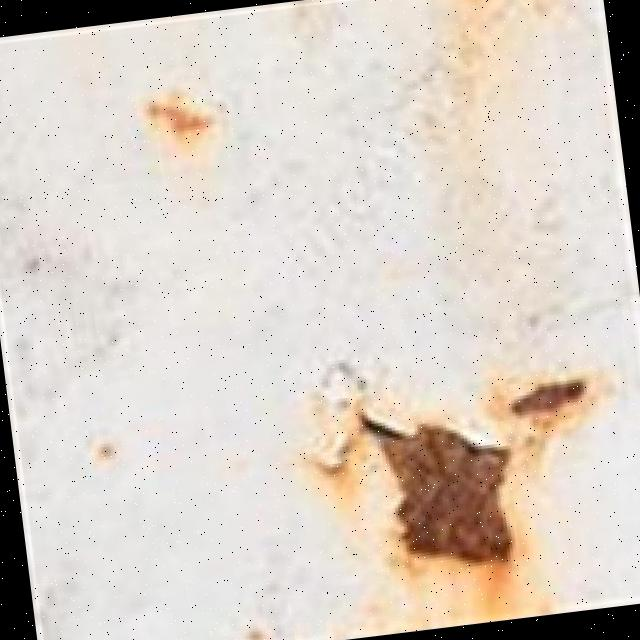Corrosion: (284, 335, 635, 640), (356, 391, 524, 579)
